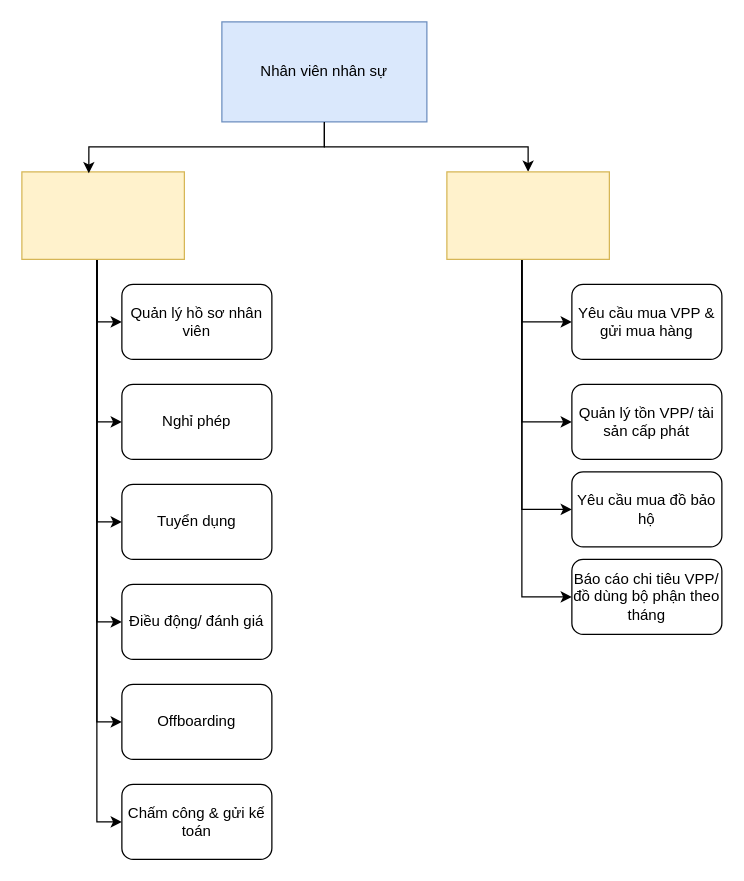
Some shapes in this 744 by 881 pixel diagram are drawn without their labels. Each missing label, with the centre of its shape:
"Nhân sự" belongs at point (102, 215).
"Văn phòng phẩm" belongs at point (527, 215).
